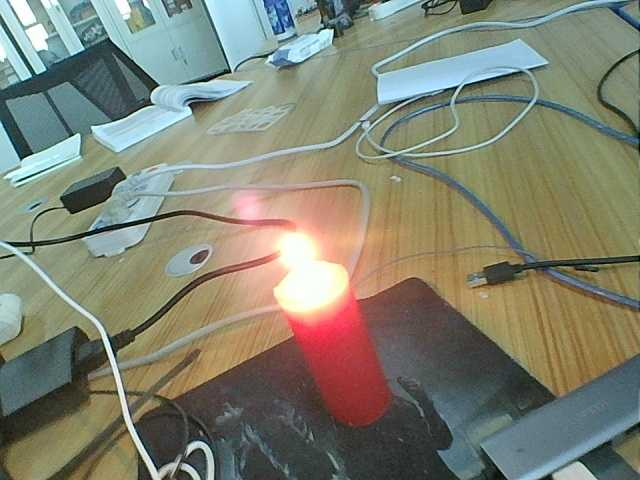candle: (291, 310, 402, 427)
fire: (274, 235, 336, 303)
